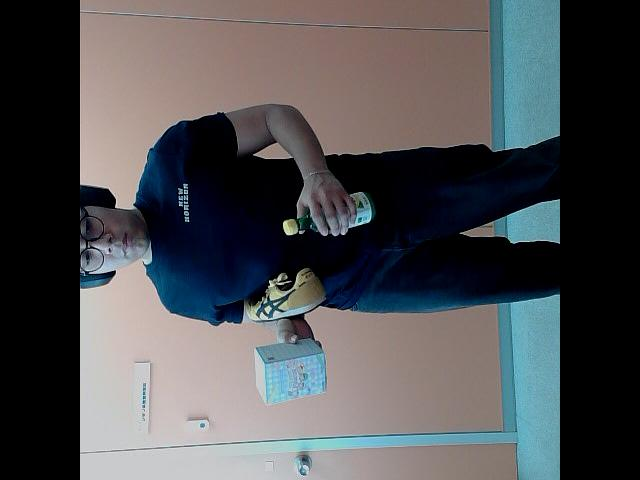Blind_box: (250, 336, 328, 404)
Lemon_sapporo: (282, 190, 377, 244)
Shoes: (246, 266, 324, 322)
